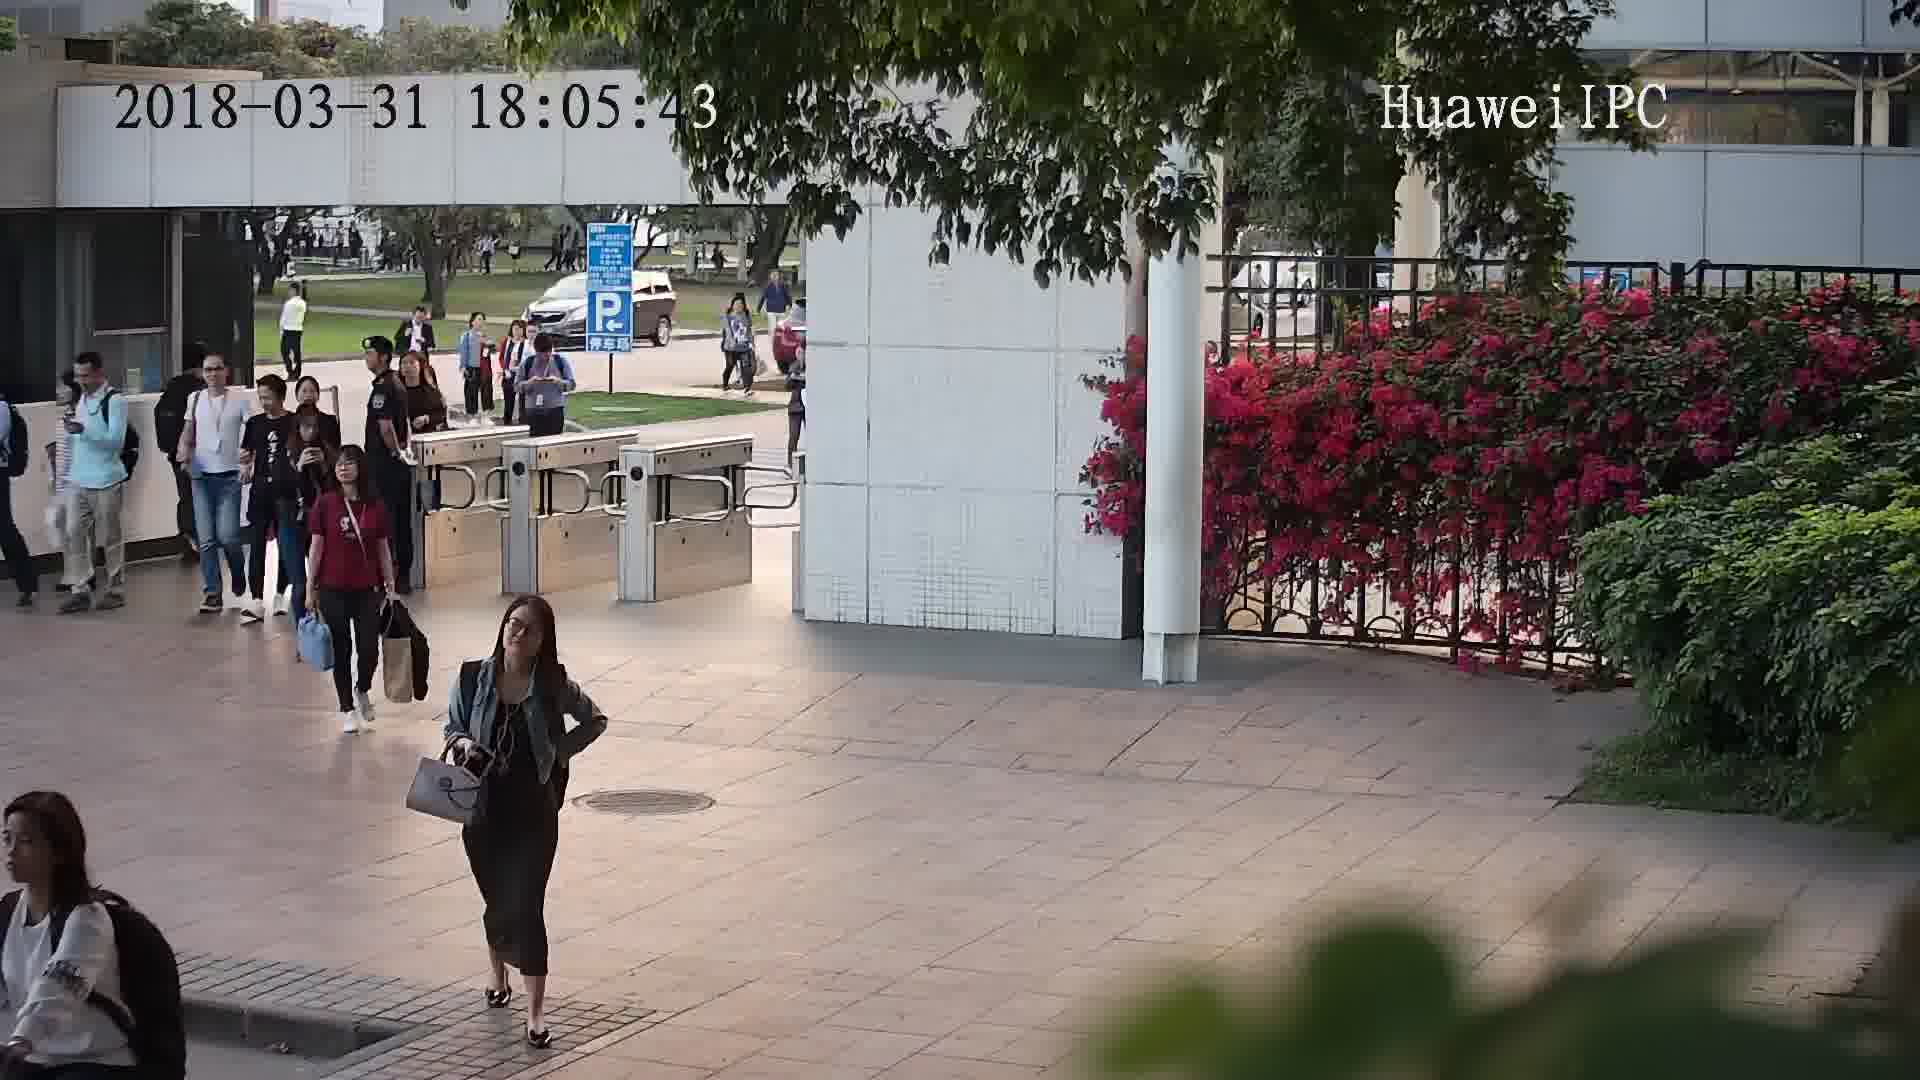face: (1, 811, 63, 881), (492, 599, 550, 656), (196, 358, 231, 391), (331, 455, 359, 486)
person: (1, 789, 135, 944), (456, 592, 572, 712), (315, 442, 389, 520), (72, 349, 128, 417), (193, 351, 250, 413), (251, 373, 300, 436), (397, 346, 444, 406), (295, 372, 340, 430), (363, 333, 401, 398), (523, 332, 570, 378), (522, 318, 559, 352), (405, 298, 436, 335), (461, 308, 490, 347), (281, 277, 310, 310), (1, 370, 17, 428), (500, 320, 526, 350), (725, 291, 752, 318), (766, 265, 793, 291)
